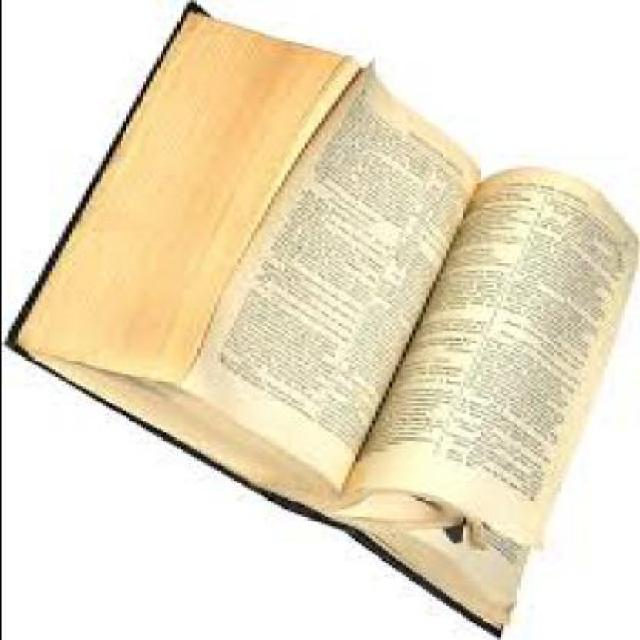PAPER: (12, 0, 638, 640), (182, 53, 482, 485), (350, 165, 638, 549)
